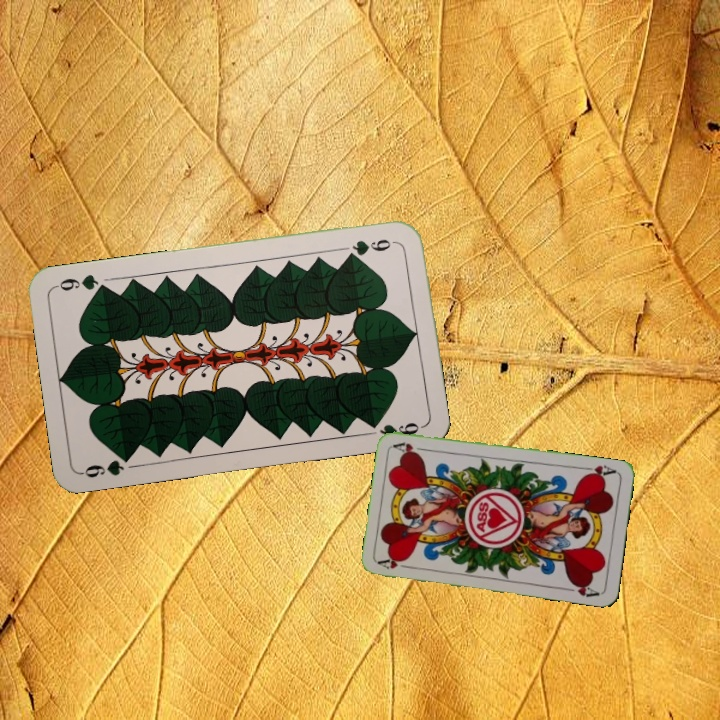G9: (78, 450, 135, 481), (343, 235, 399, 260)
HA: (578, 461, 618, 481), (375, 553, 416, 572)
